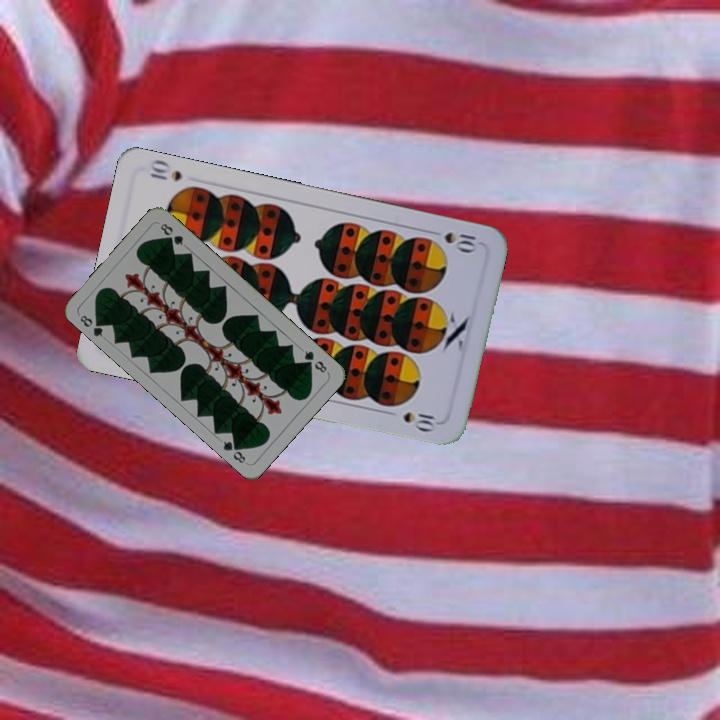G8: (76, 311, 108, 340), (300, 346, 330, 376)
S10: (424, 226, 483, 255)
